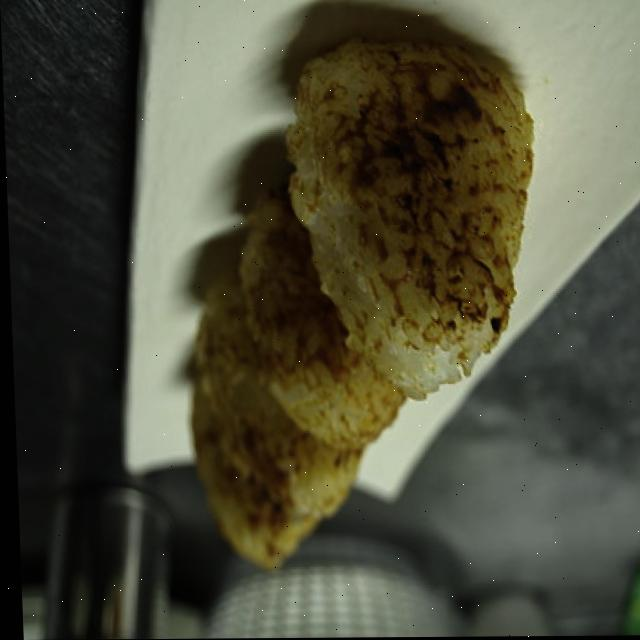米饭主食: (97, 0, 640, 580)
